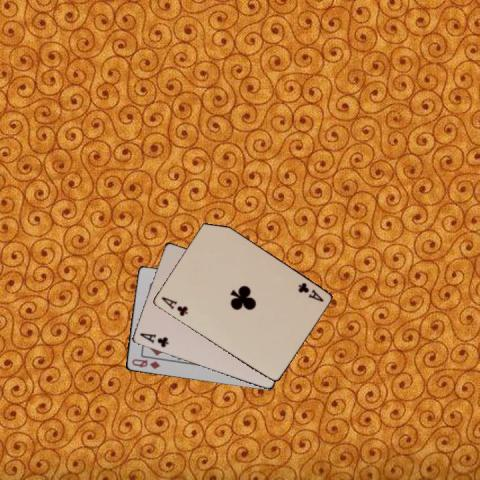Ac: (294, 280, 324, 304), (158, 294, 189, 317), (137, 330, 169, 349)
Qd: (129, 356, 161, 371)
